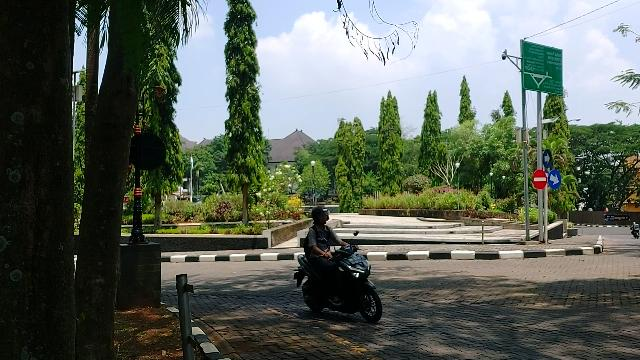helm: (313, 207, 331, 224)
motor: (295, 247, 384, 324)
